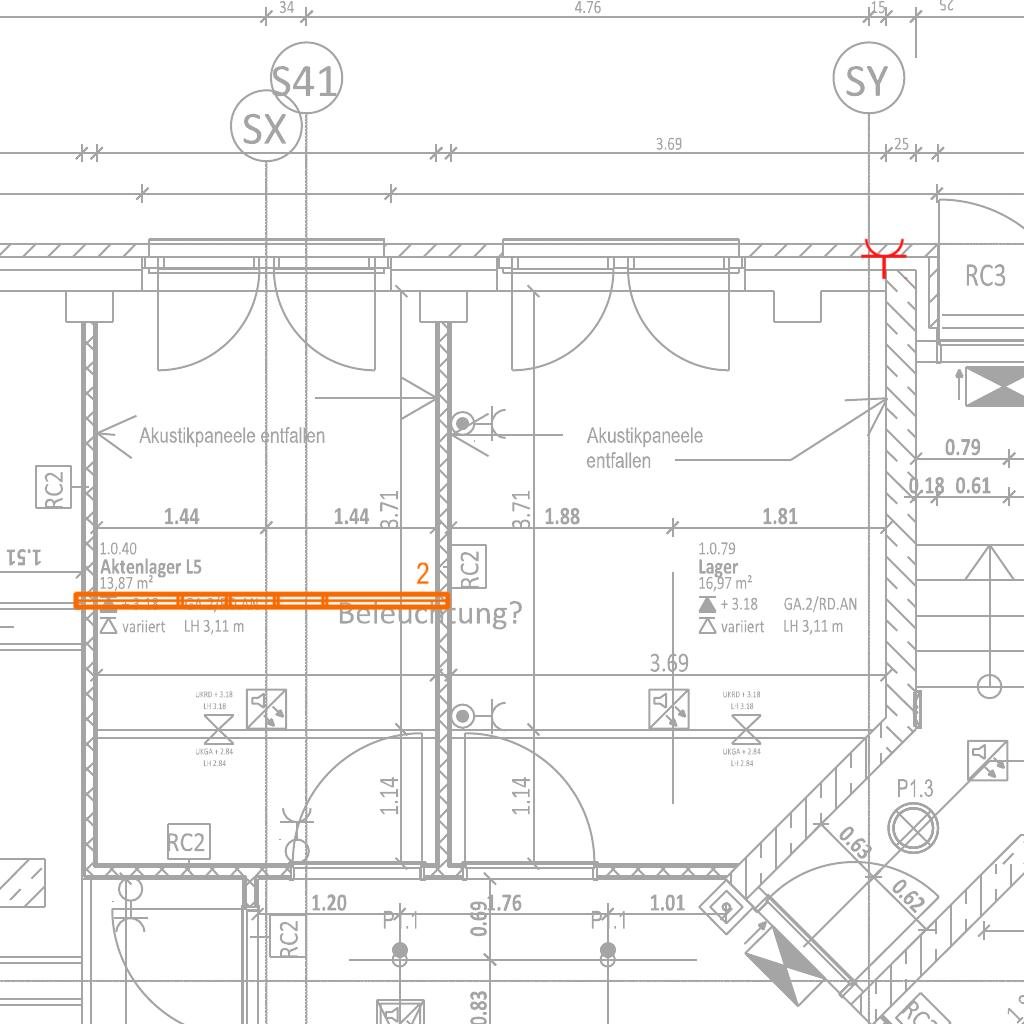Ambulanz_Pendelleuchte_LED: (68, 560, 455, 616)
Schukosteckdose_einfach: (860, 237, 910, 280)
